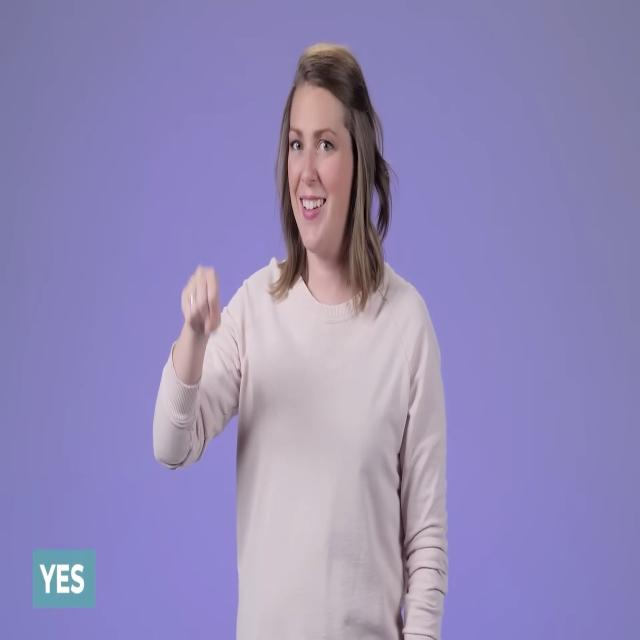yes: (167, 232, 236, 367)
